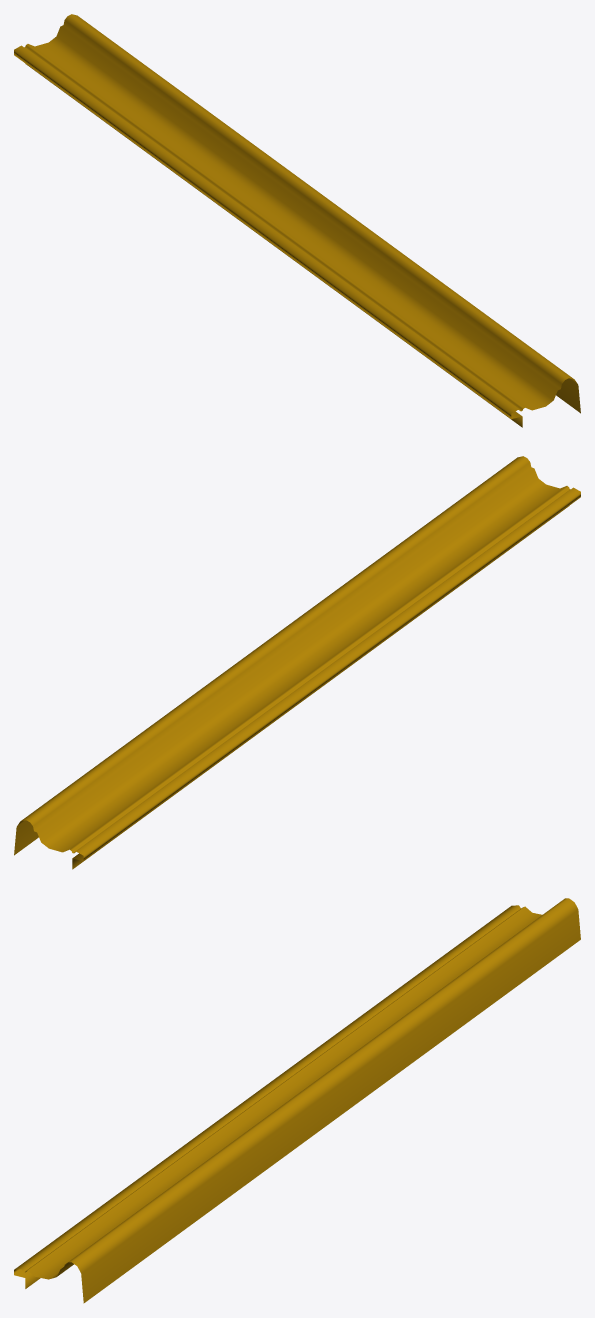
The model's file is 3D_Frame_03_a.fbx.
The picture shows the model from 3 angles, top to bottom: view 1: azimuth 30°, elevation 25°; view 2: azimuth 150°, elevation 25°; view 3: azimuth 330°, elevation 25°; orthographic projection.
Visible parts, largest first — view 1: polySurface6; view 2: polySurface6; view 3: polySurface6.
Boxes of the visible parts, left/top/right/bottom form: polySurface6: left=14, top=14, right=580, bottom=427; polySurface6: left=14, top=456, right=580, bottom=869; polySurface6: left=14, top=898, right=580, bottom=1303.
Size of the model in its own units: 22.7 by 11.94 by 280.
